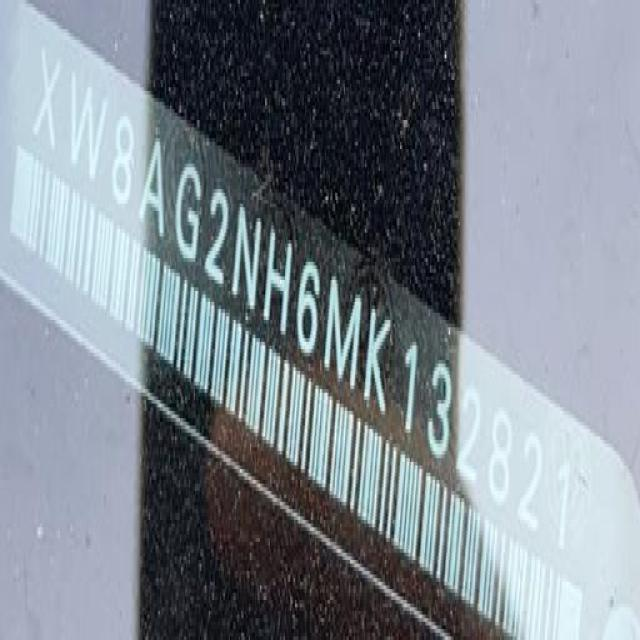1: (549, 440, 591, 566), (393, 324, 426, 458)
2: (452, 366, 489, 504), (514, 416, 551, 540), (200, 174, 236, 297)
3: (420, 340, 456, 476)
6: (296, 257, 320, 368)
8: (106, 102, 141, 218), (489, 403, 512, 510)
A: (136, 123, 172, 248)
G: (168, 148, 207, 271)
H: (257, 218, 296, 344)
K: (362, 299, 393, 415)
M: (318, 262, 366, 398)
N: (233, 200, 262, 314)
W: (66, 75, 112, 196)
X: (26, 43, 68, 161)
